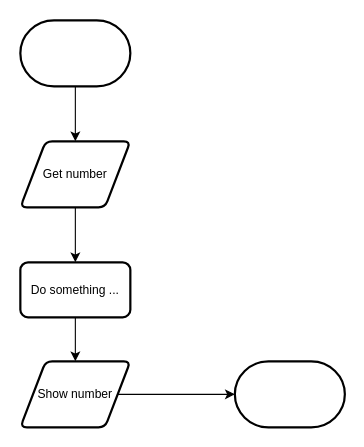
Some shapes in this 364 by 447 pixel diagram are drawn without their labels. Here are the shapes that lost their labels. From the top down, the box of each, then its label:
(19, 19, 131, 87): Start
(233, 360, 345, 428): Stop
